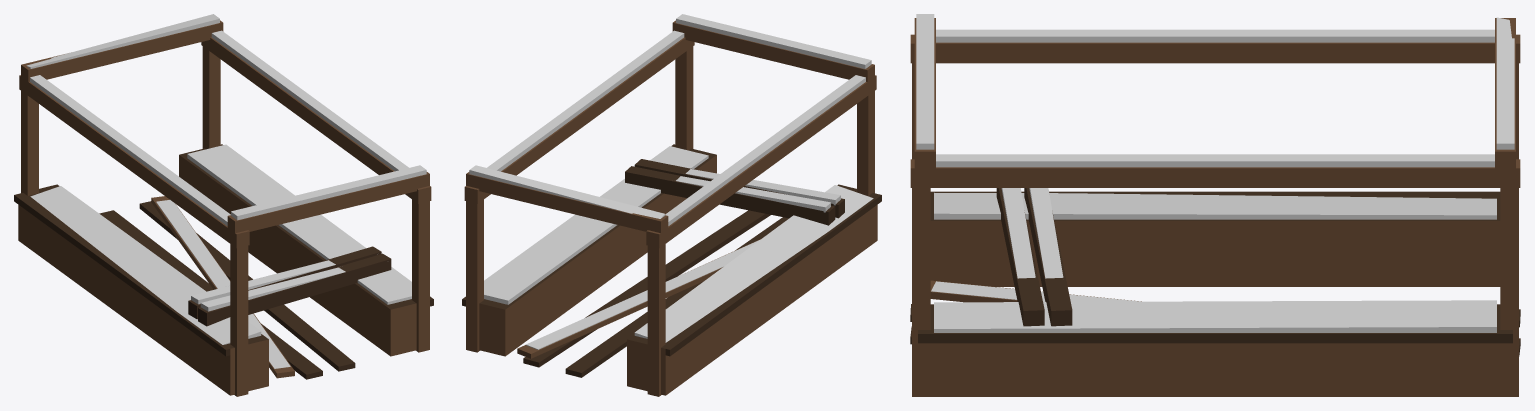
File: market_build_snow_mat.fbx
3 views of the same model, side by side, from view 1: azimuth 30°, elevation 25°; view 2: azimuth 150°, elevation 25°; view 3: azimuth 270°, elevation 25° (orthographic). The views are drawn at different scales.
Visible parts, largest first — view 1: market_build_snow_mat; view 2: market_build_snow_mat; view 3: market_build_snow_mat.
Boxes of the visible parts, bbox=[...] form: market_build_snow_mat: bbox=[14, 14, 433, 396]; market_build_snow_mat: bbox=[462, 14, 881, 396]; market_build_snow_mat: bbox=[910, 14, 1520, 396].
Bounding box in the file's own units: 262 × 216 × 473.
